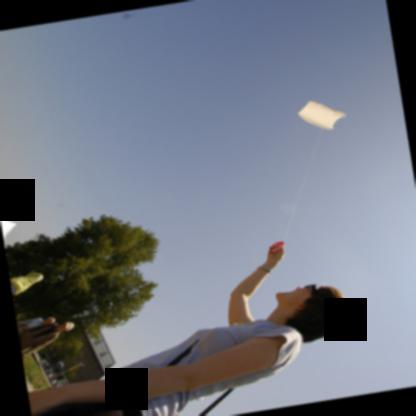handbag: (63, 401, 127, 416)
